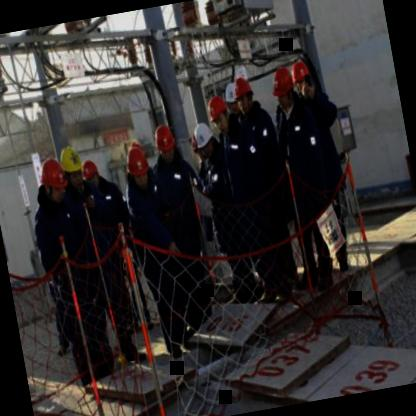helmet: (36, 153, 70, 207), (288, 52, 317, 104), (56, 142, 86, 192), (267, 65, 298, 111), (124, 144, 152, 192), (150, 120, 178, 164), (204, 93, 232, 136), (191, 119, 220, 160), (230, 72, 256, 116), (222, 79, 244, 117), (79, 157, 100, 190)
